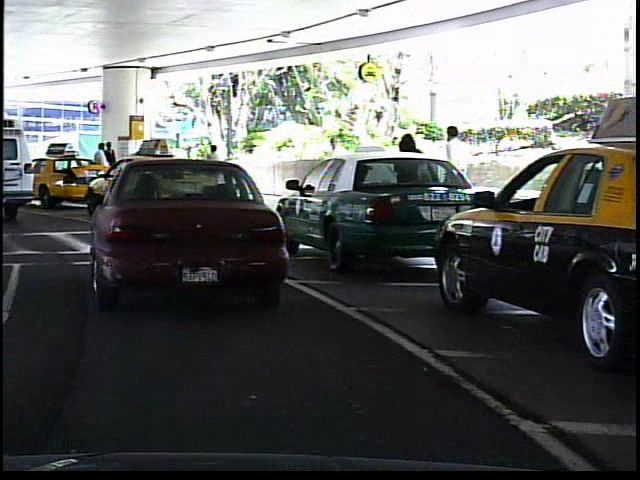person: (435, 117, 481, 229), (391, 125, 427, 230), (318, 128, 346, 204), (201, 138, 225, 190), (90, 142, 108, 195), (103, 138, 118, 193)
